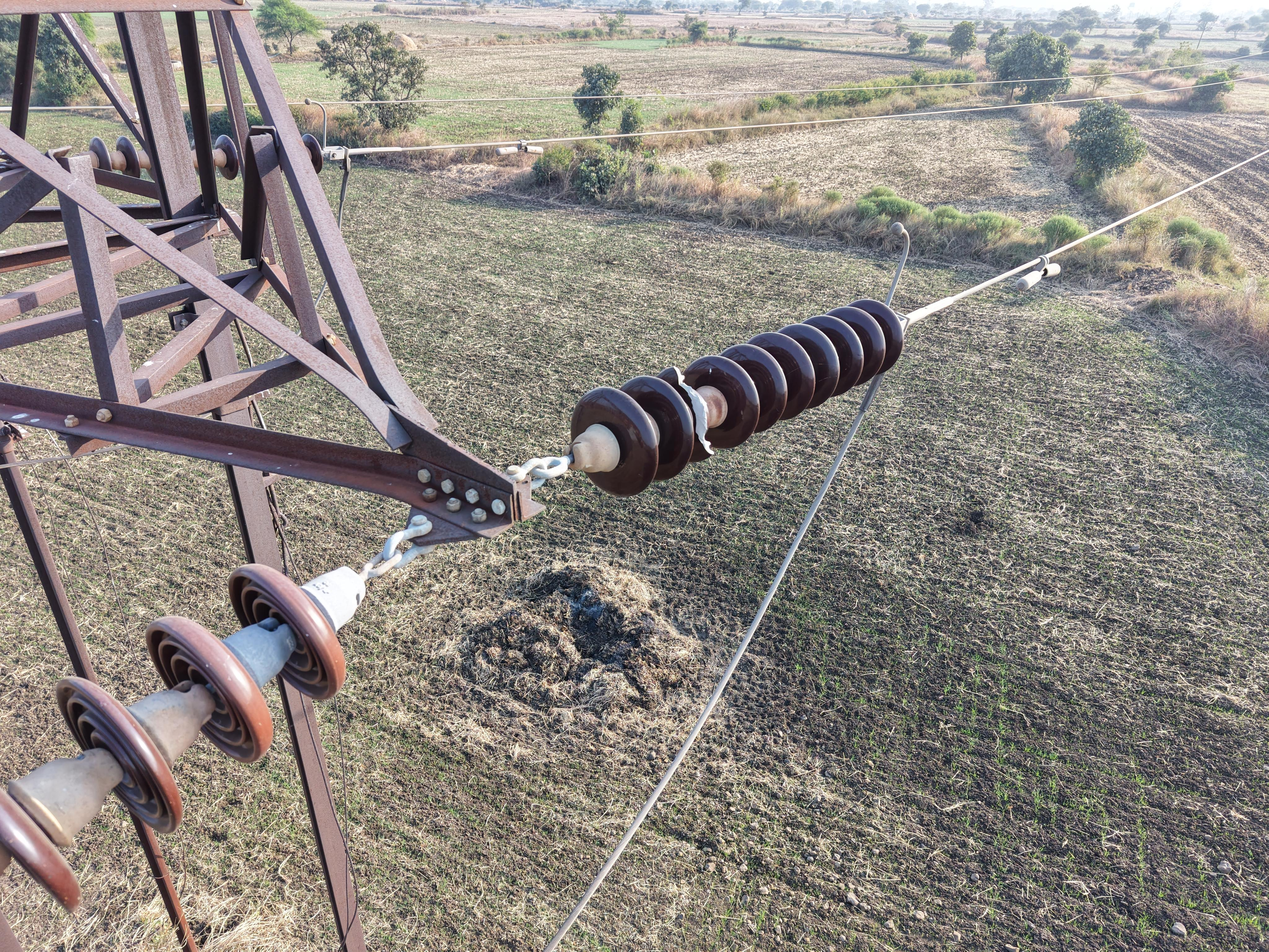broken_insulator: (657, 366, 715, 463)
